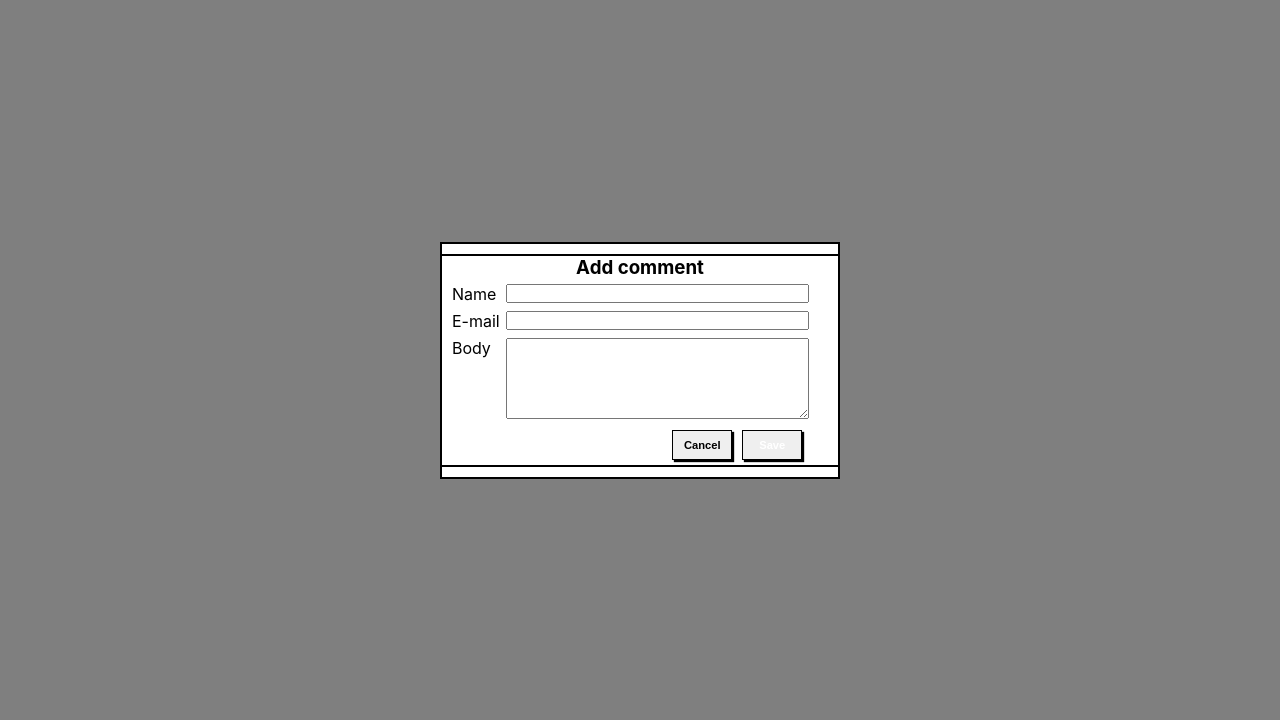
it: AddCommentForm › should display required error when value is invalid
Click the button "Save" at (772, 444), box [742,430,802,460]
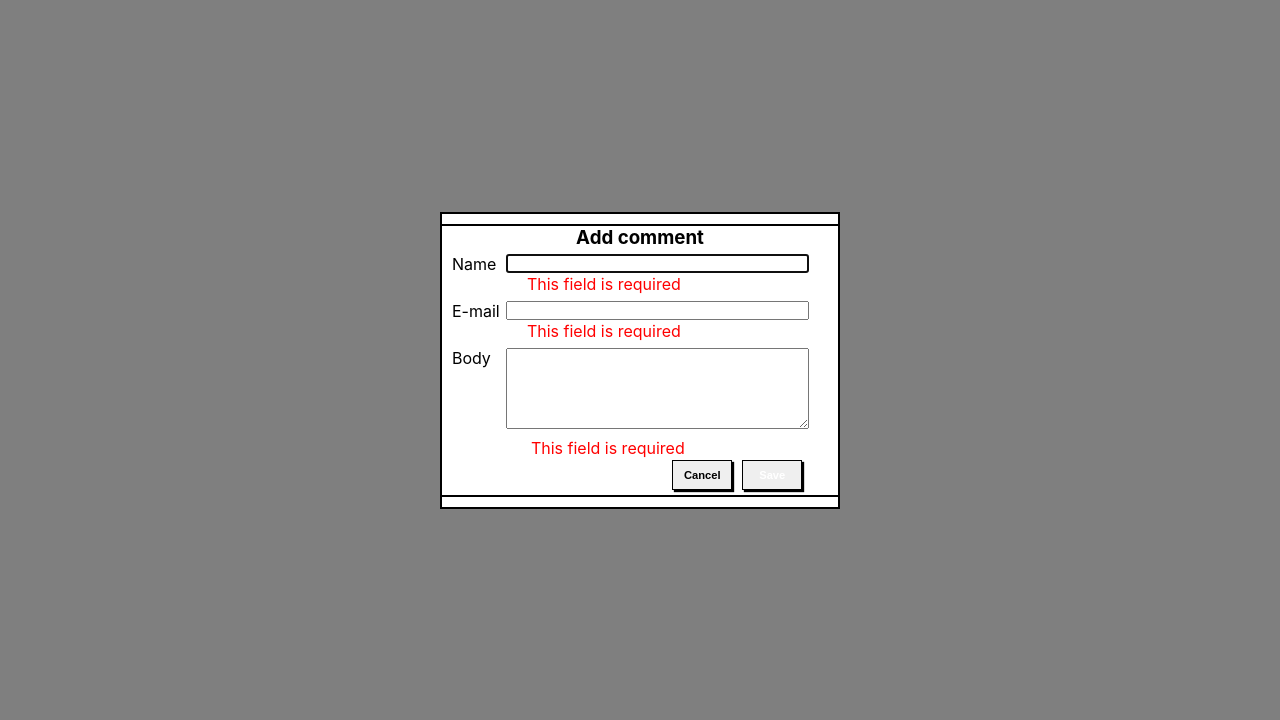
Now the text "This field is required" is shown 3 times, box [527,274,681,294]; [527,320,681,340]; [531,438,685,458]
